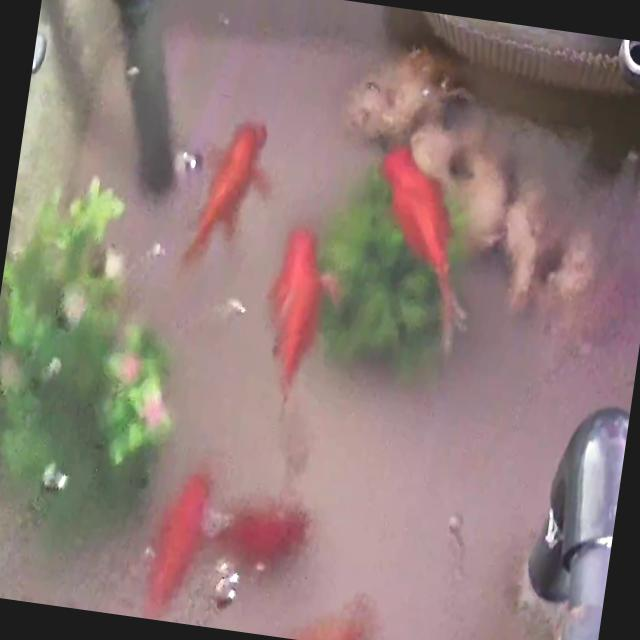fish: (360, 140, 486, 360), (180, 114, 279, 279), (256, 225, 342, 408), (140, 465, 217, 623), (205, 494, 314, 576)
